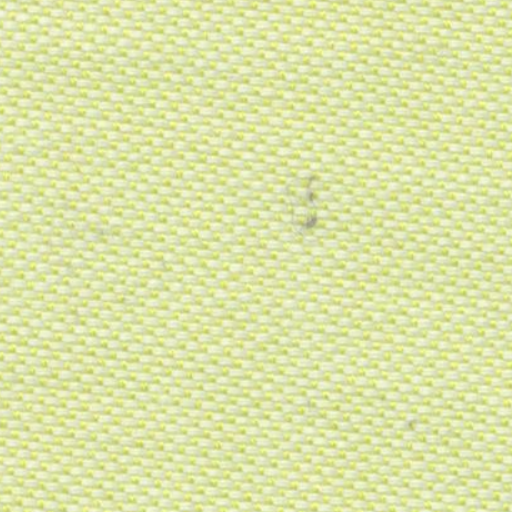WuZi: (284, 160, 336, 244)
